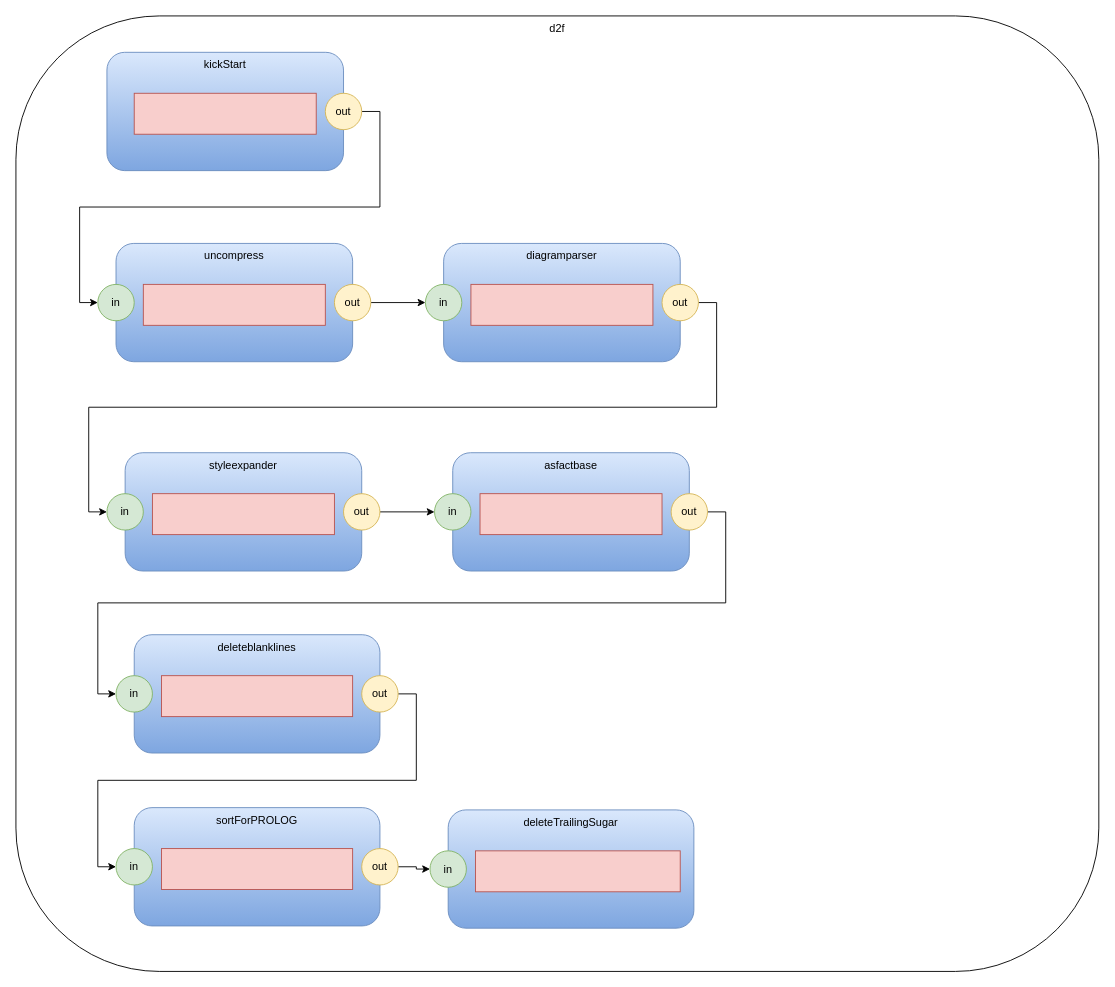
This 1115x987 diagram has some shape labels left out. The shapes that lost their labels are listed below. From the top down, each one's centre as x and y in pixels, then its label:
point (224, 113): var rawbinary = sfreadfile (argv._[0]); me.send ("out", rawbinary, null);
point (233, 304): var u = sfuncompress (message.data); me.send ("out", u, message);
point (561, 304): var x = sfdiagramparser (message.data); me.send ("out", x, message);
point (243, 514): var x = sfstyleexpander (message.data); me.send ("out", x, message);
point (570, 514): var x = sfasfactbase (message.data); me.send ("out", x, message);
point (257, 696): var x = sfdeleteblanklines (message.data); me.send ("out", x, message);
point (257, 869): var x = sfsortForPROLOG (message.data); me.send ("out", x, message);
point (577, 871): var x = sfdeleteTrailingSugar (message.data); me.send ("out", x, message);
